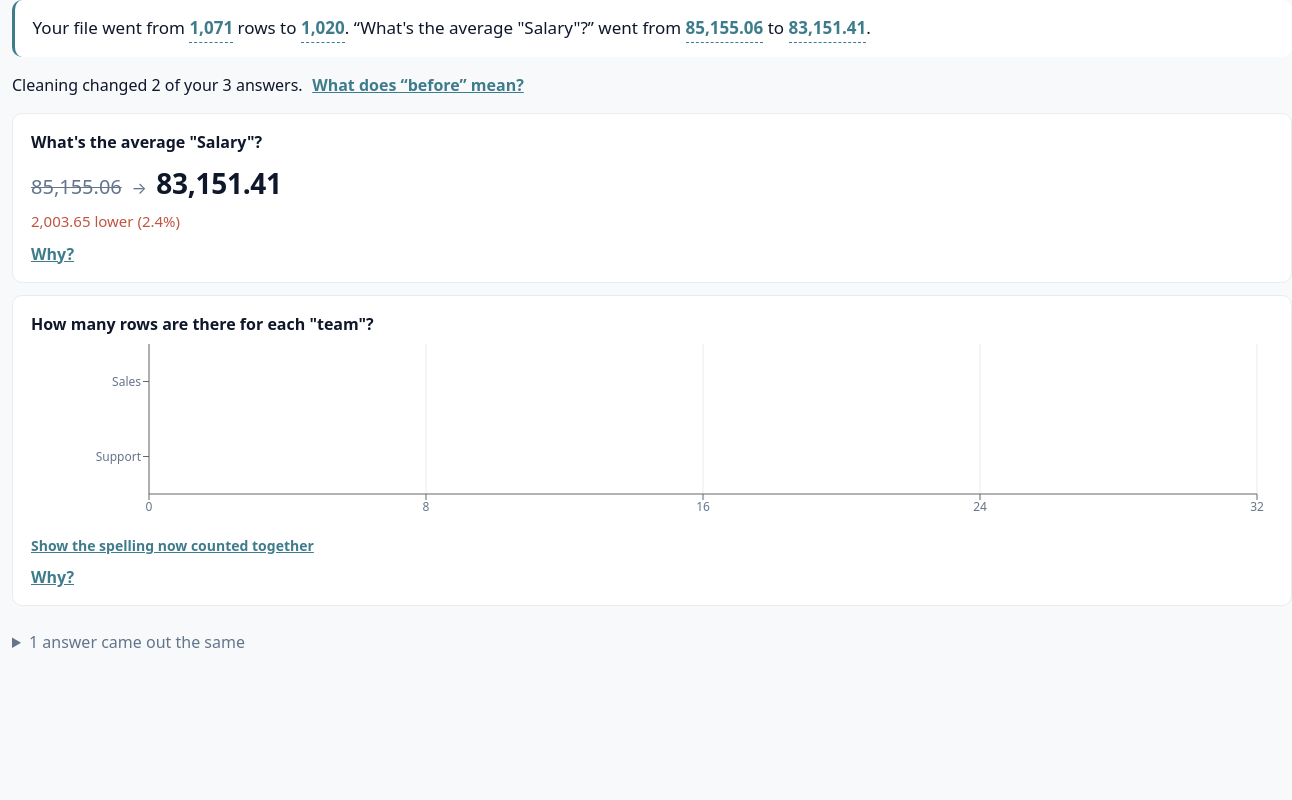
Test: ComparePage › explains what "before" means, on request
Click the button "What does “before” mean?". click: (418, 85)
box: [312,73,524,97]
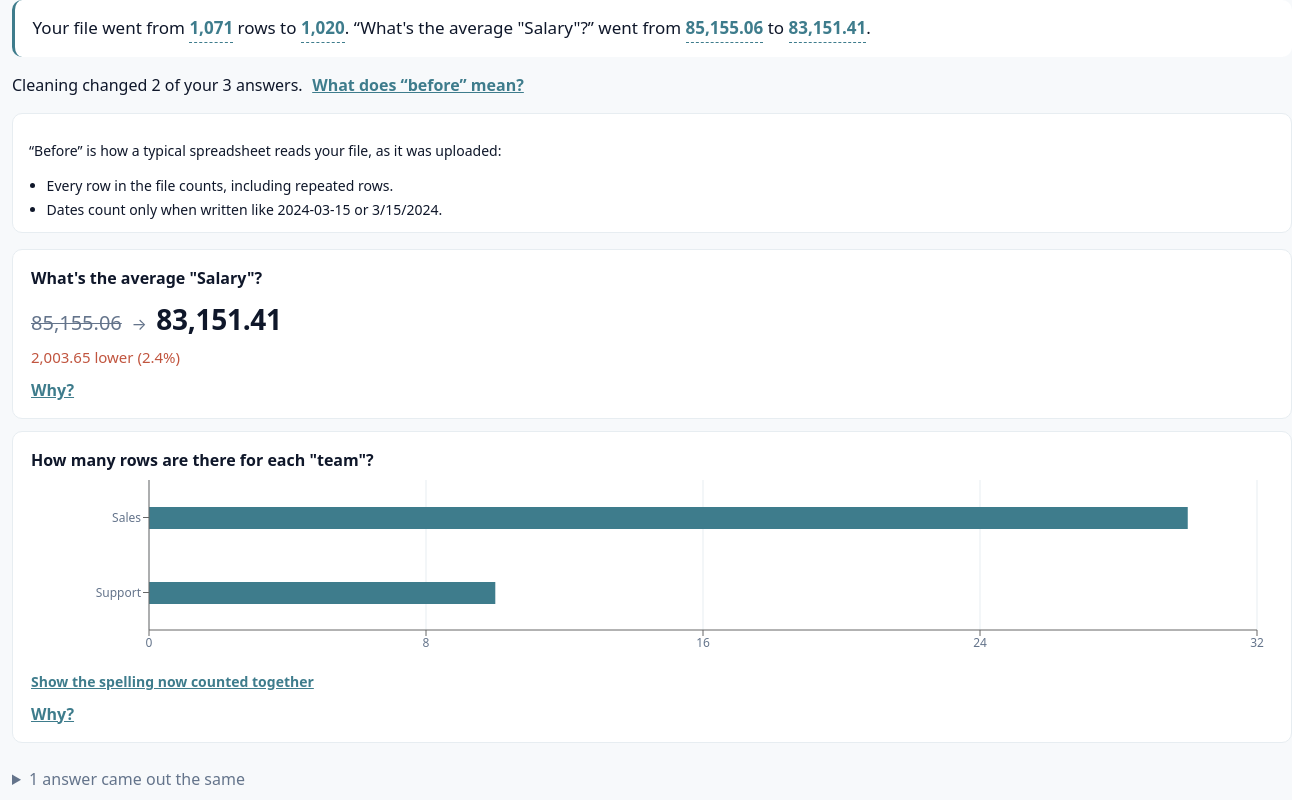
Check: the list item "Every row in the file counts, including repeated rows." is shown, box [47,176,393,195]
Check: the list item "Dates count only when written like 2024-03-15 or 3/15/2024." is shown, box [47,200,442,219]
